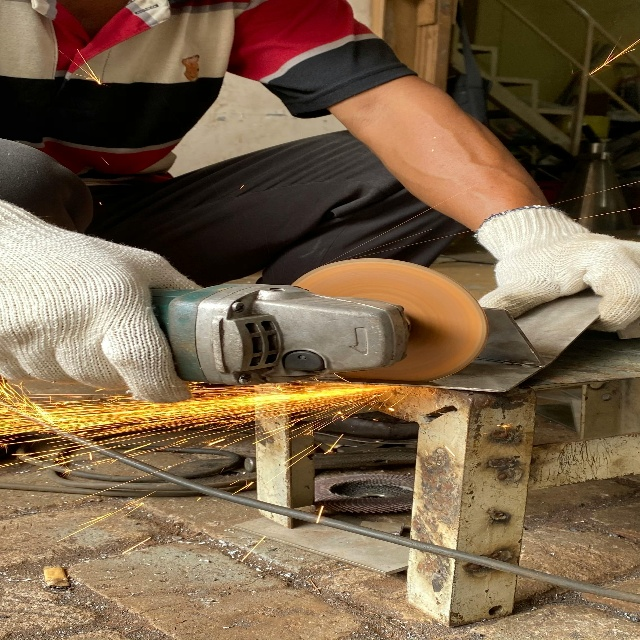Guantes: (0, 208, 199, 403), (475, 210, 640, 325)
